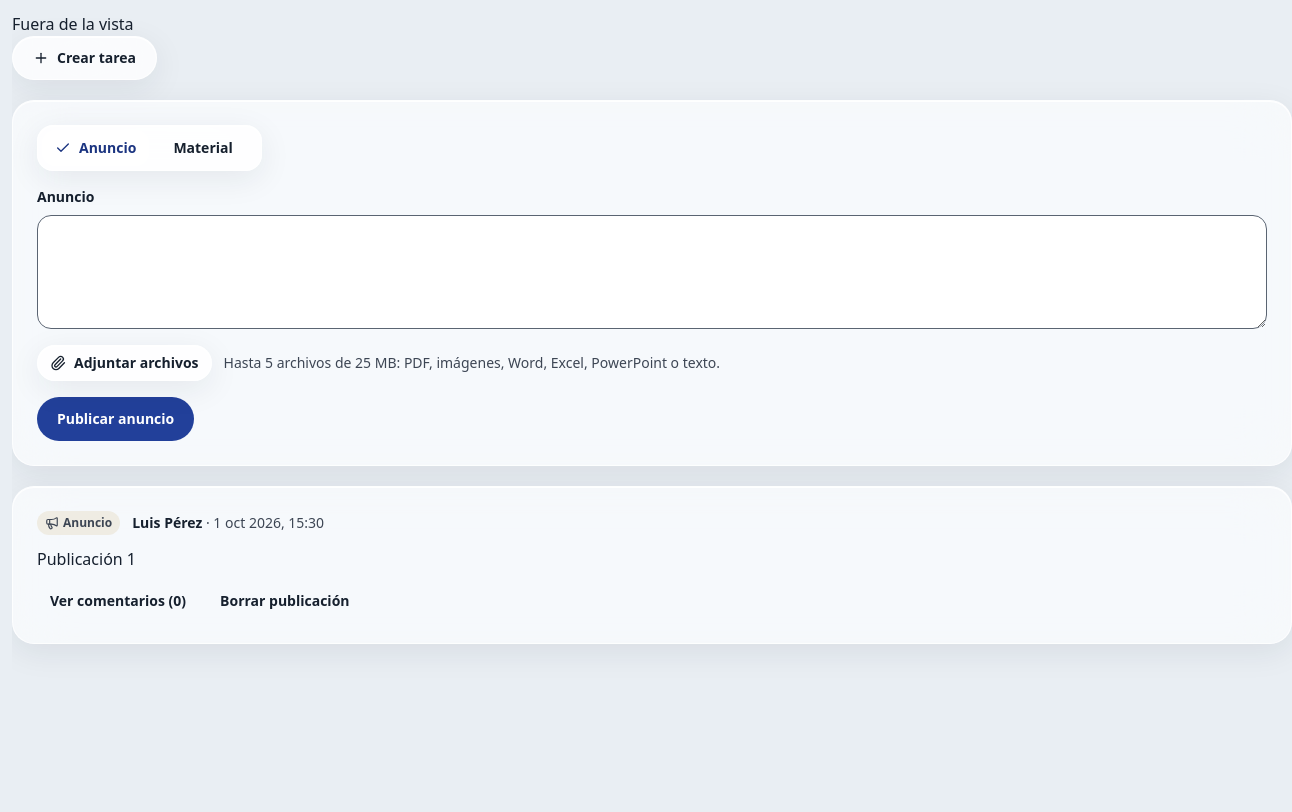
Test: ataque CLASES-02c r3: la lista del muro cuando la recarga o «Ver más publicaciones» fallan › si la persona ya está escribiendo un anuncio cuando la recarga falla, el foco se queda en el campo
The image size is (1292, 812).
Step 1. Click the button "Borrar publicación" → (285, 602), box [207,584,362,620]
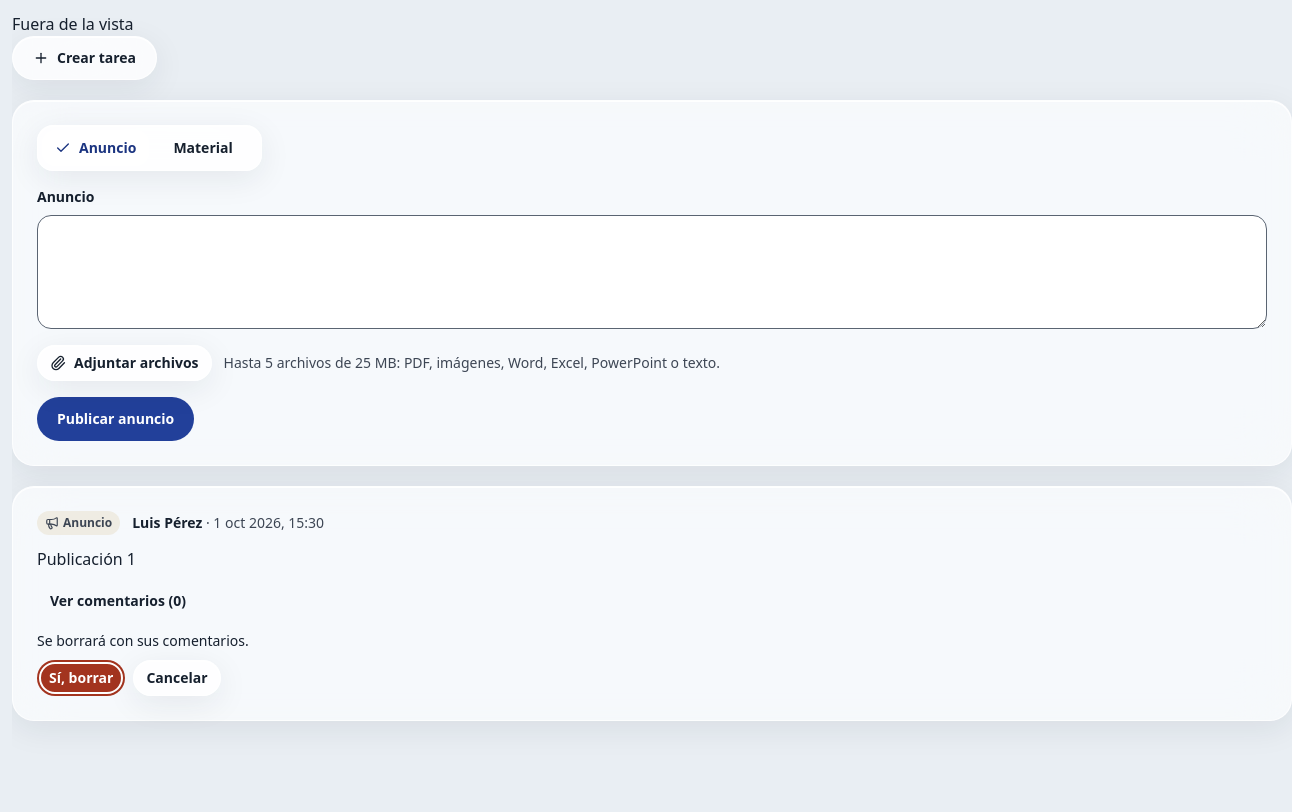
# El clic y, en el mismo turno, la persona pasa al campo del anuncio.
Step 2. Click the button "Sí, borrar" → (81, 678), box [37,660,125,696]
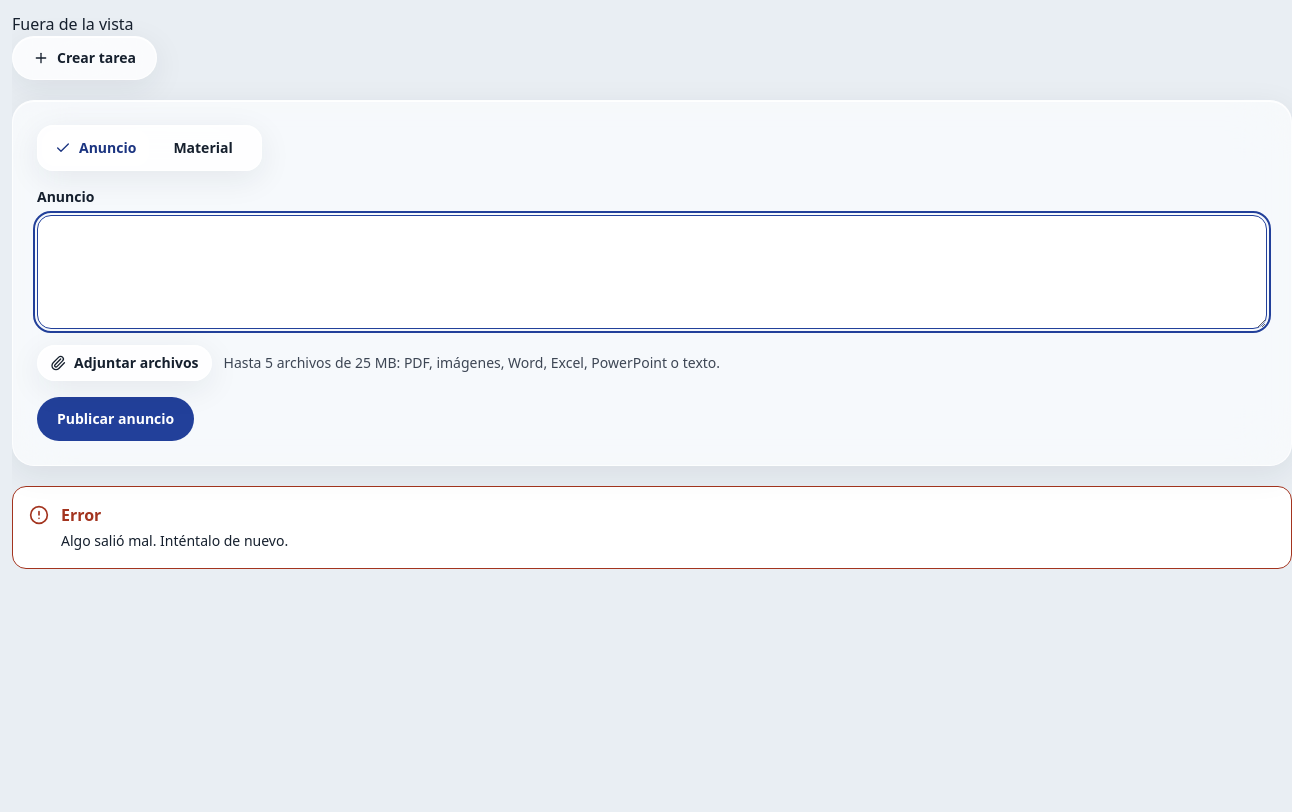
Check: the text "Algo salió mal. Inténtalo de nuevo." is shown, box [61,531,288,552]
